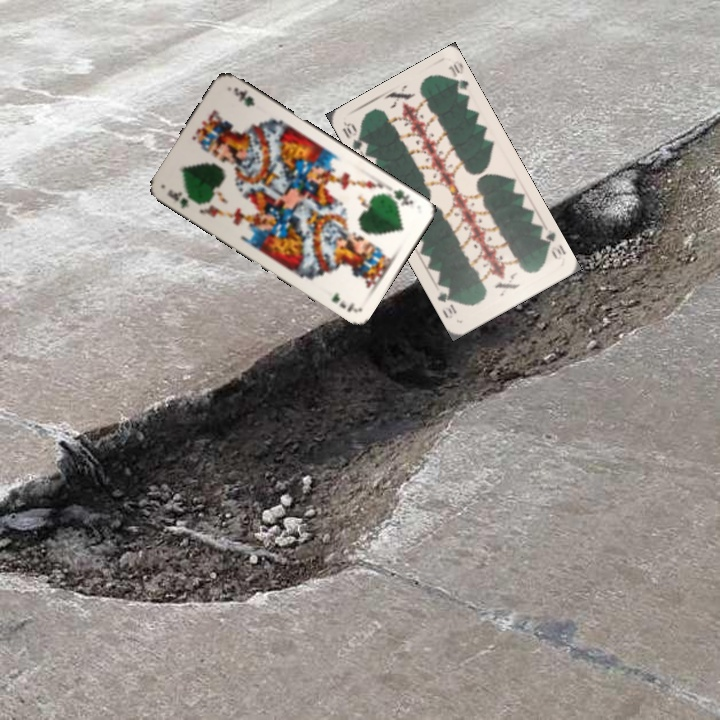G10: (338, 118, 370, 157), (536, 226, 568, 262)
GK: (385, 183, 416, 208), (163, 185, 192, 211)
